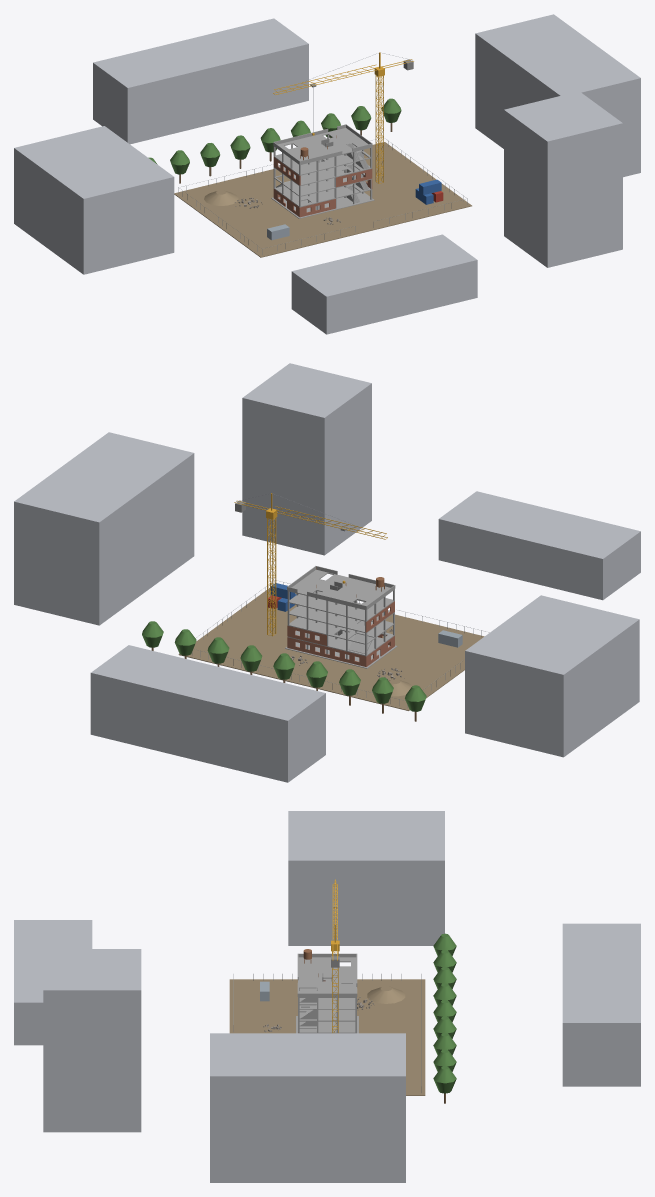
File: bando_a.glb
3 renders of one model, top to bottom at view 1: azimuth 30°, elevation 25°; view 2: azimuth 150°, elevation 25°; view 3: azimuth 270°, elevation 25°, orthographic. The views are drawn at different scales.
Parts seen in each view (by area): view 1: city_block_002, city_block, city_block_004, city_block_001, city_block_003, site, ground_slab; view 2: city_block_001, city_block_002, city_block, city_block_004, city_block_003, site, floor_4_009; view 3: city_block_001, city_block, city_block_004, city_block_002, site, city_block_003, floor_5_001, dirt_mound.
Part boxes in pixels (x1,y1,x2,y2): city_block_002: (93, 18, 308, 144); city_block: (14, 126, 174, 274); city_block_004: (504, 91, 622, 267); city_block_001: (475, 14, 640, 177); city_block_003: (291, 234, 477, 334); site: (174, 142, 471, 257); ground_slab: (271, 188, 374, 218); city_block_001: (14, 432, 194, 625); city_block_002: (90, 645, 325, 782); city_block: (465, 595, 639, 757); city_block_004: (242, 363, 371, 555); city_block_003: (438, 491, 640, 600); site: (178, 588, 484, 710); floor_4_009: (287, 594, 378, 621); city_block_001: (210, 1033, 405, 1182); city_block: (288, 811, 444, 945); city_block_004: (43, 949, 141, 1132); city_block_002: (562, 923, 640, 1086); site: (229, 979, 425, 1095); city_block_003: (14, 920, 92, 1045); floor_5_001: (299, 957, 317, 988); dirt_mound: (367, 986, 405, 1003).
Size of what is drawn, in the model's own units: 173 by 41.32 by 160.
